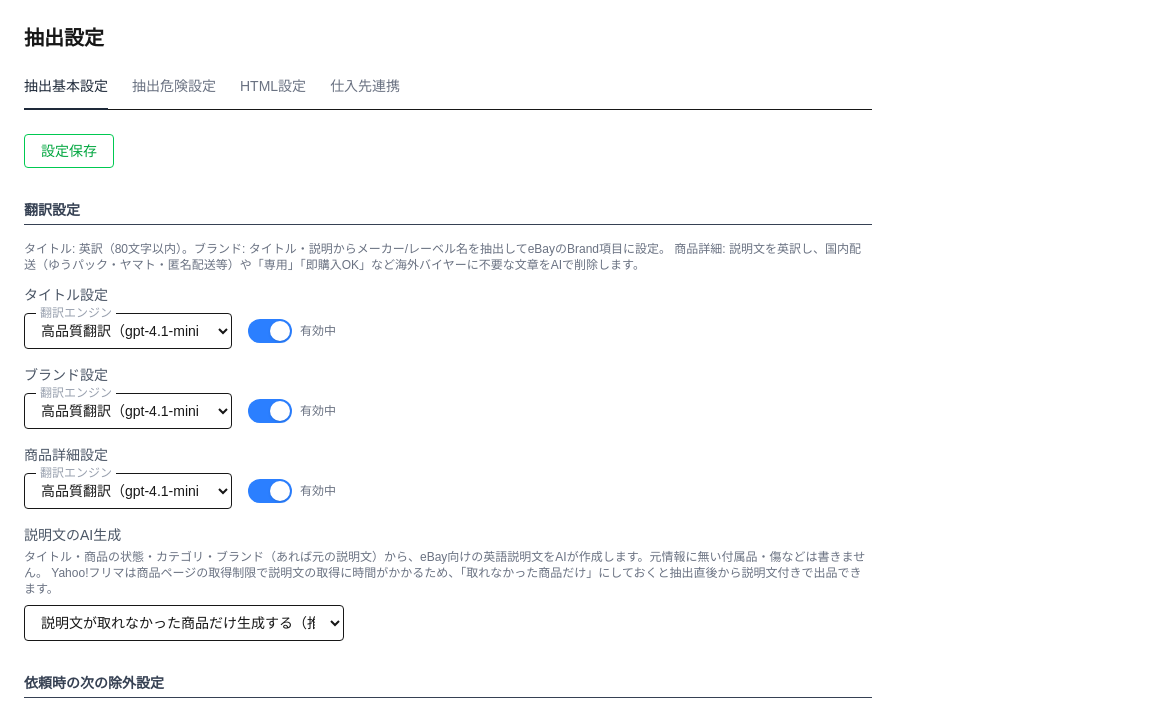
抽出設定ページ: Veroブランドの登録UI › ブランド名を入力して「追加」を押すと、type: veroでPOSTし、一覧が更新される
Click the button "抽出危険設定" at (174, 93), box [132, 76, 216, 110]
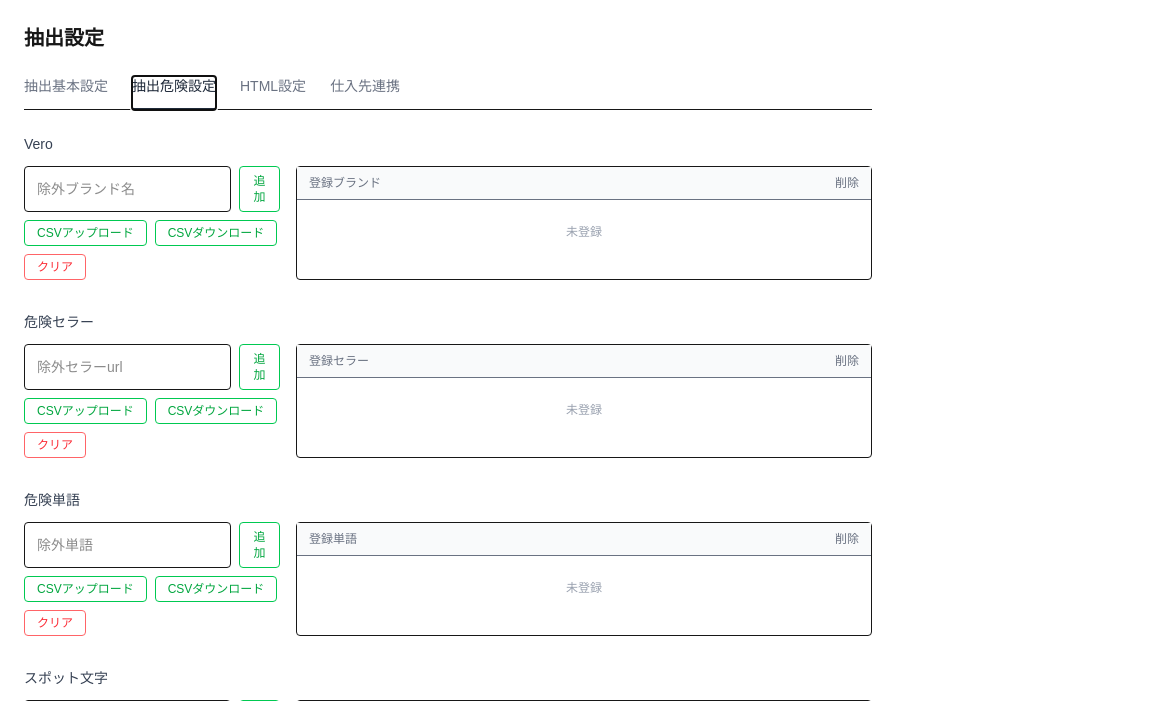
Type "LOUIS VUITTON" into the field with placeholder "除外ブランド名" at (128, 189), box [24, 166, 231, 212]
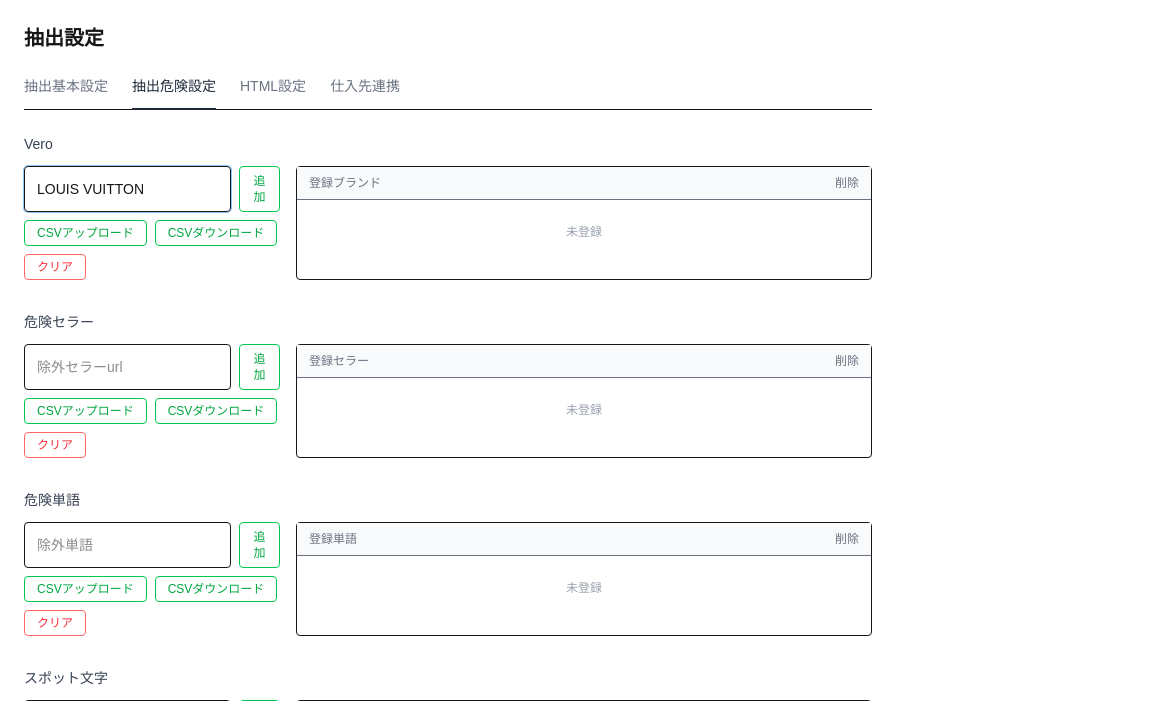
Click the button "追加" next to "登録ブランド" at (260, 189), box [239, 166, 280, 212]
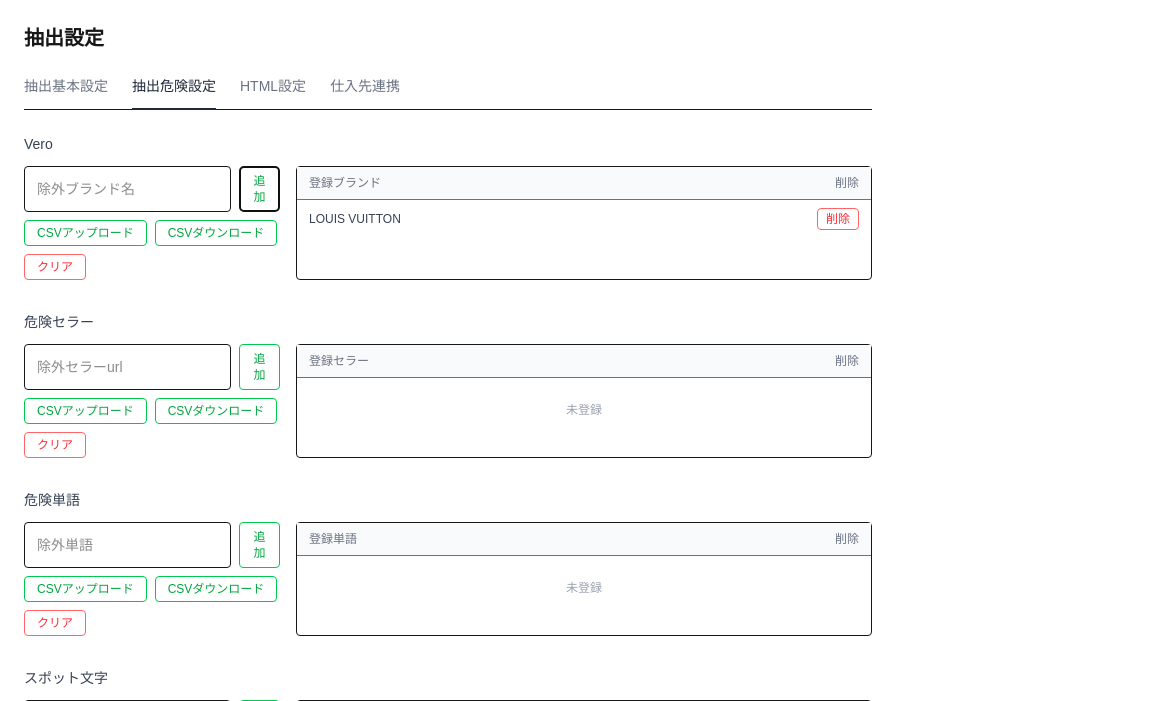
Expected: the text "LOUIS VUITTON" is shown, [309, 212, 401, 226]
